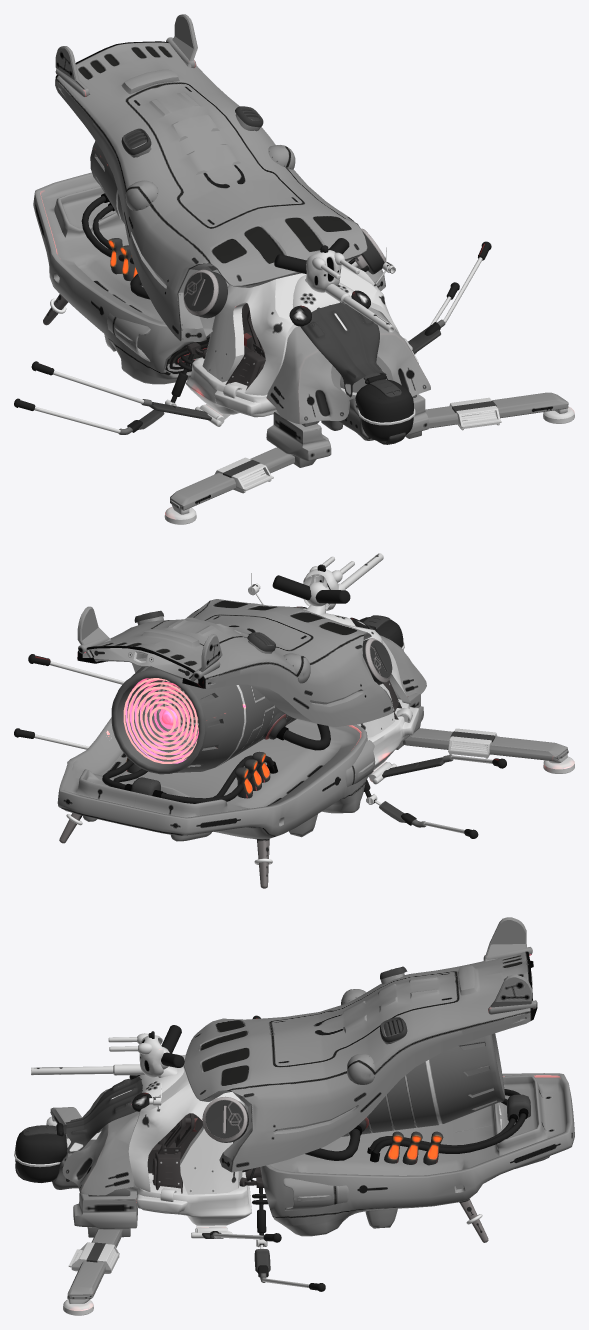
File: spaceship.glb
3 renders of one model, top to bottom at view 1: azimuth 30°, elevation 25°; view 2: azimuth 150°, elevation 25°; view 3: azimuth 270°, elevation 25°, orthographic. The views are drawn at different scales.
Visible parts, largest first — view 1: starship_0; view 2: starship_0; view 3: starship_0.
Boxes of the visible parts, box(x1,y1,x2,y2) form: starship_0: box(14, 14, 574, 524); starship_0: box(14, 553, 574, 888); starship_0: box(14, 917, 574, 1315).
Bounding box in the file's own units: 9.61 × 5.35 × 10.29.
3 materials, 3 textured.
